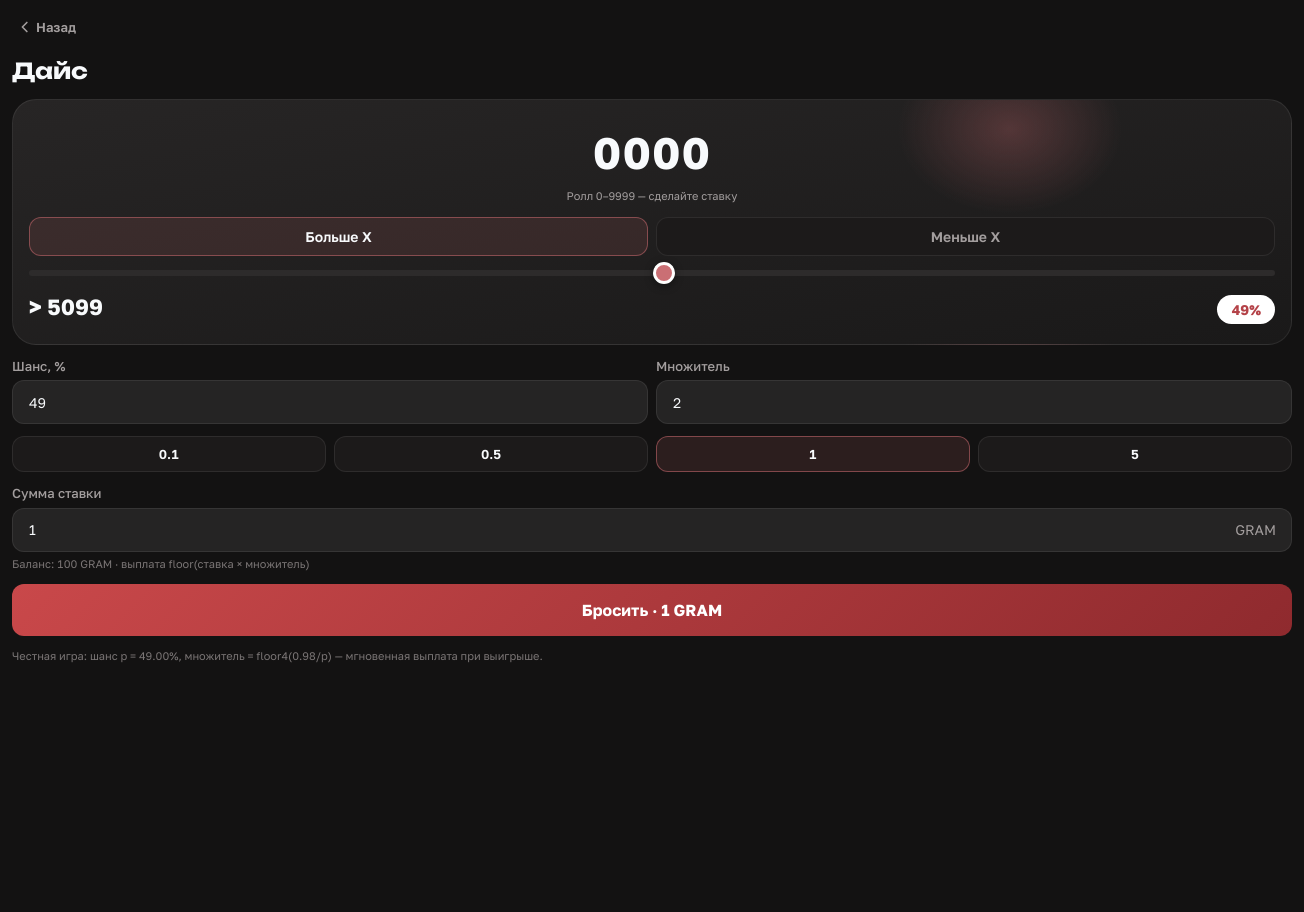
Test: DiceScreen (4.7: поля пересчитывают друг друга) › ввод множителя 4 пересчитывает шанс и цель (under X = 2450)
Click the button "Меньше X": click(966, 236) 656,216 -> 1275,256
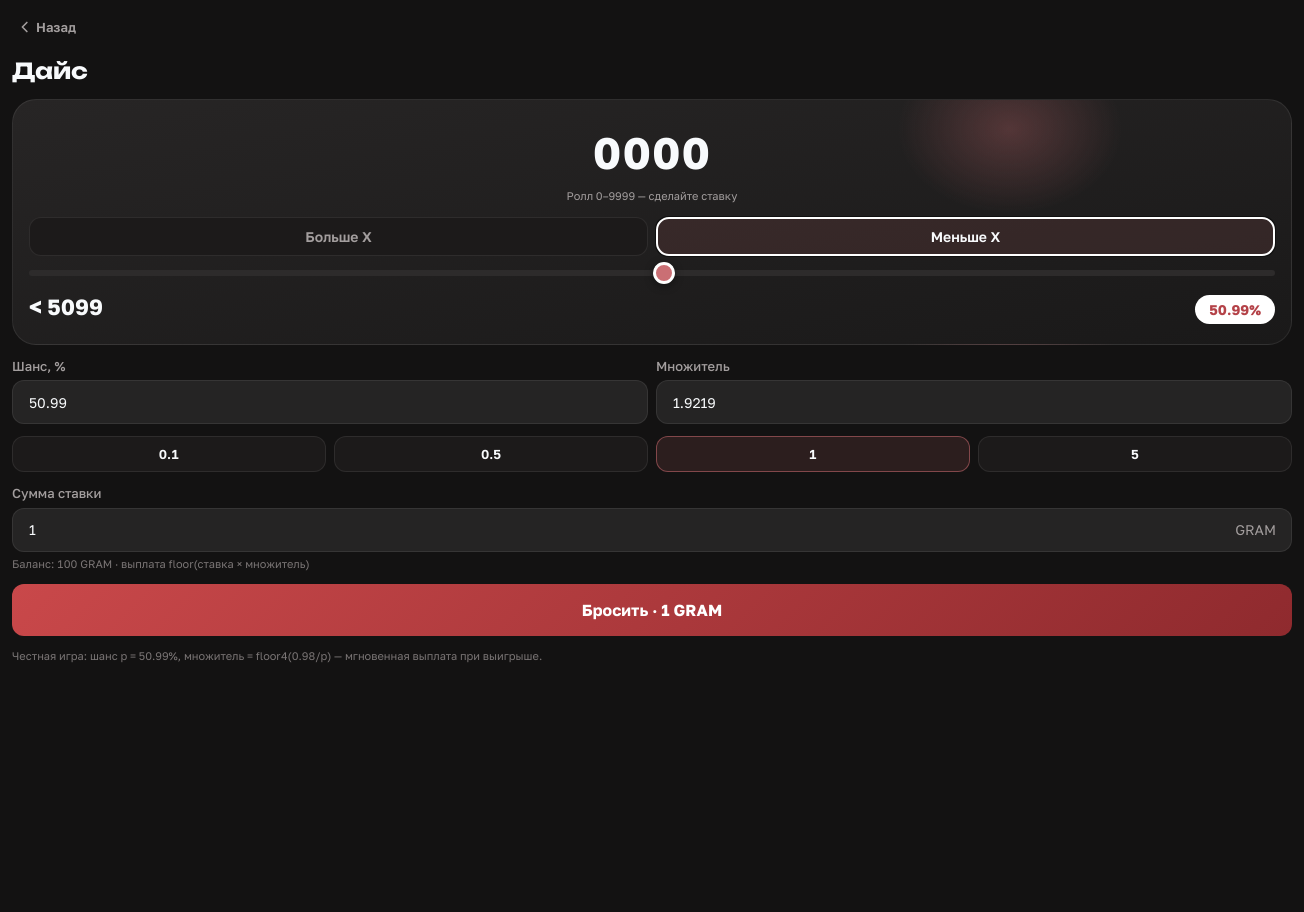
Replace the text in the field labelled "Множитель" with "4": (974, 402) 656,380 -> 1292,424
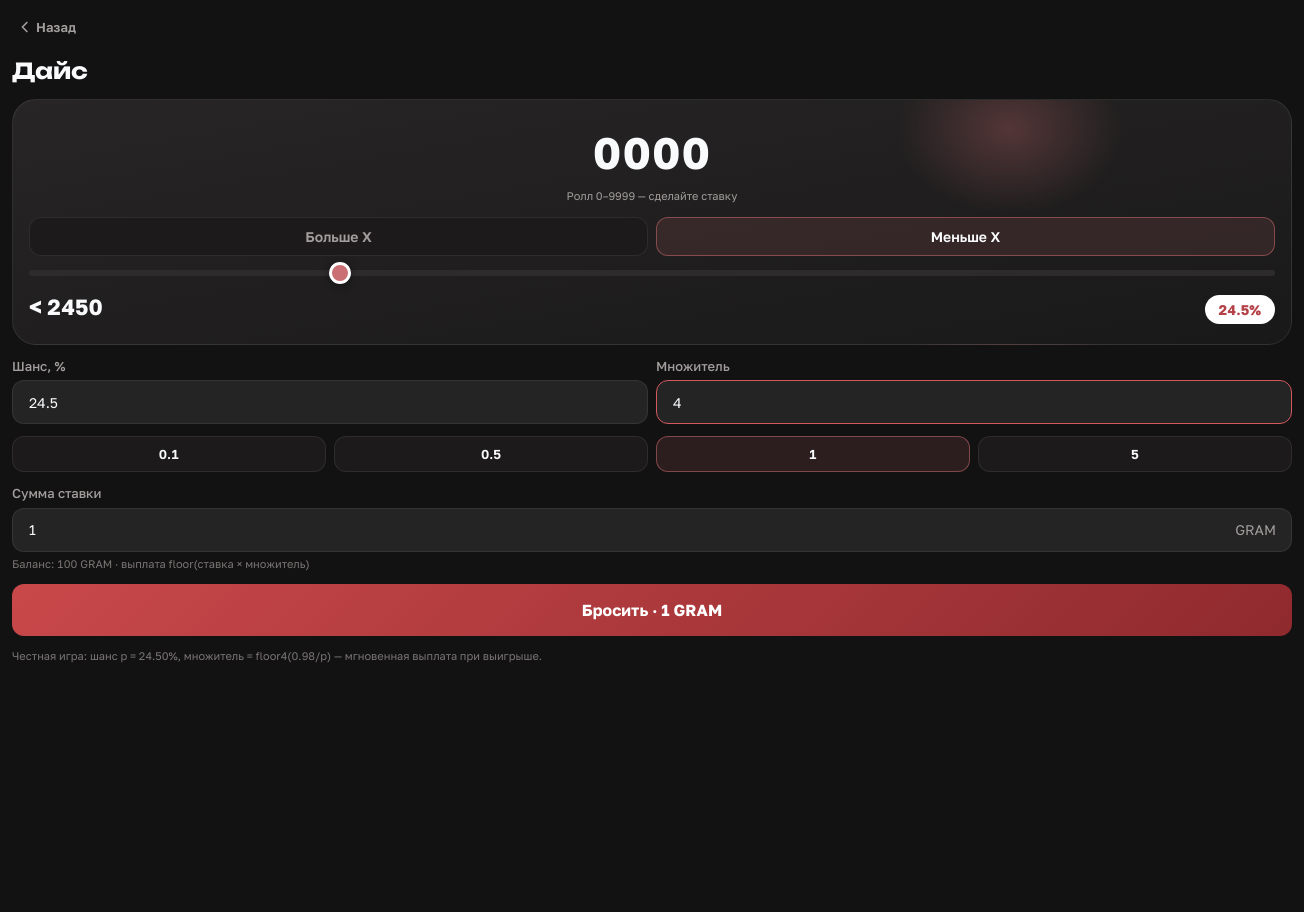
Expected: the text "< 2450" is shown, 29,290 -> 103,322
Expected: the text "24.5%" is shown, 1205,294 -> 1275,324
